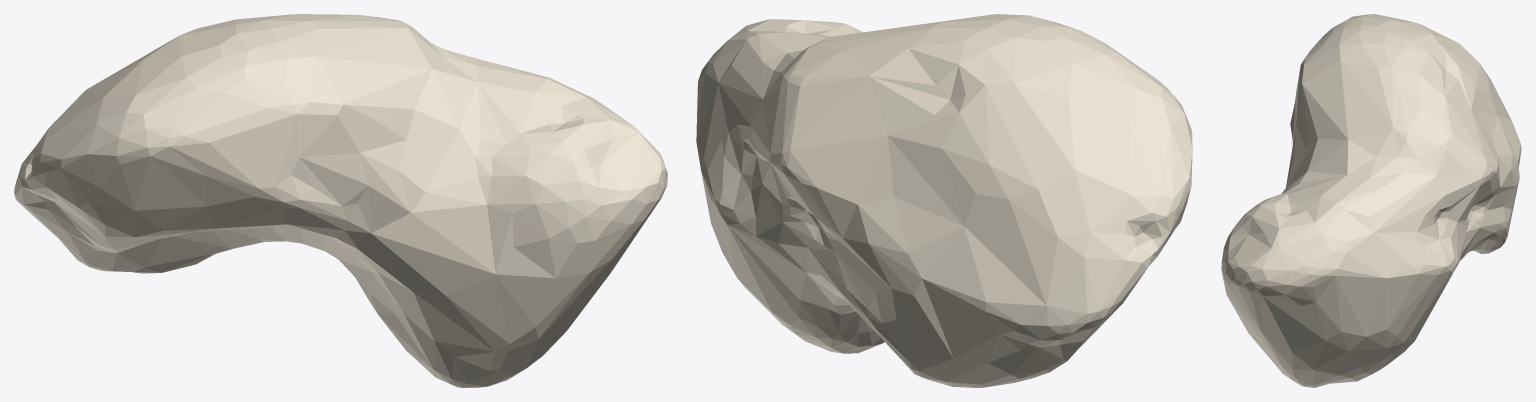
Rendered from left_scaphoid.glb.
The picture shows the model from 3 angles, left to right: view 1: azimuth 30°, elevation 25°; view 2: azimuth 150°, elevation 25°; view 3: azimuth 270°, elevation 25°; orthographic projection. The views are drawn at different scales.
Visible parts, largest first — view 1: left_scaphoid; view 2: left_scaphoid; view 3: left_scaphoid.
Part boxes in pixels (x1,y1,x2,y2): left_scaphoid: (14, 14, 667, 387); left_scaphoid: (696, 14, 1192, 387); left_scaphoid: (1221, 14, 1521, 387).
Bounding box in the file's own units: 0.0238 × 0.0157 × 0.0154.
